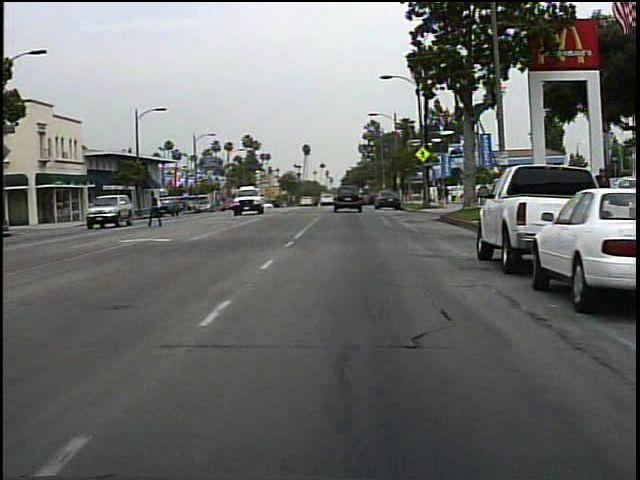person: (586, 163, 613, 231), (145, 187, 172, 229)
